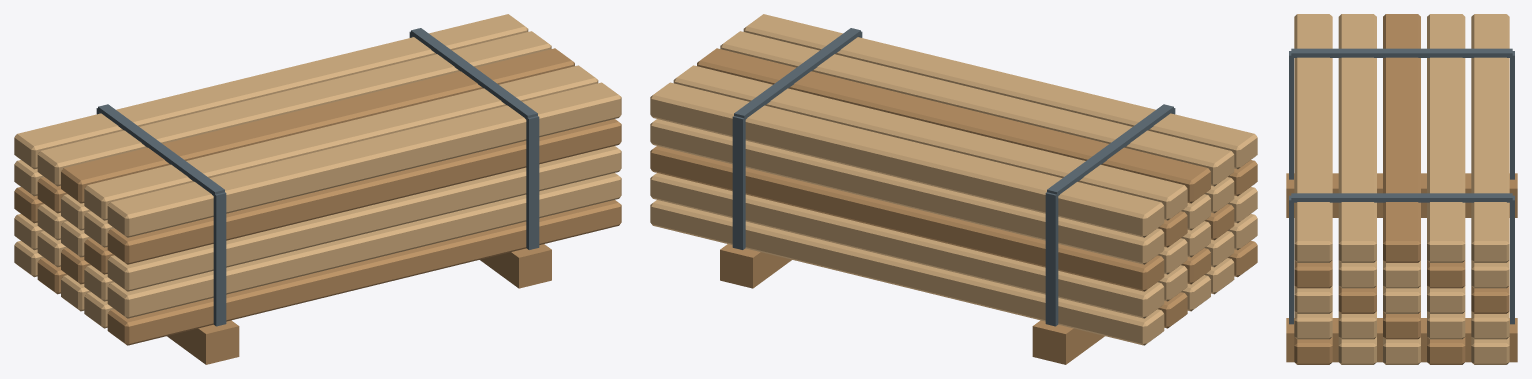
Rendered from Timber_Stack.fbx.
3 views of the same model, side by side, from view 1: azimuth 30°, elevation 25°; view 2: azimuth 150°, elevation 25°; view 3: azimuth 270°, elevation 25° (orthographic). The views are drawn at different scales.
Parts seen in each view (by area): view 1: Stacked Timber Plank.020, Stacked Timber Plank.015, Stacked Timber Plank.010, Stacked Timber Plank.005, Stacked Timber Plank, Stacked Timber Plank.023, Stacked Timber Plank.021, Stacked Timber Plank.022, Stacked Timber Plank.024, Timber Dunnage, Timber Dunnage.001, Timber Bundle Strap Side (+19 smaller); view 2: Stacked Timber Plank.024, Stacked Timber Plank.019, Stacked Timber Plank.014, Stacked Timber Plank.009, Stacked Timber Plank.004, Stacked Timber Plank.021, Stacked Timber Plank.023, Stacked Timber Plank.020, Stacked Timber Plank.022, Timber Dunnage, Timber Dunnage.001, Timber Bundle Strap Side.003 (+19 smaller); view 3: Stacked Timber Plank.020, Stacked Timber Plank.024, Stacked Timber Plank.021, Stacked Timber Plank.023, Stacked Timber Plank.022, Timber Bundle Strap Top, Timber Bundle Strap Top.001, Timber Dunnage.001, Timber Dunnage, Stacked Timber Plank, Stacked Timber Plank.004, Stacked Timber Plank.010 (+21 smaller).
Boxes of the visible parts, box(x1,y1,x2,y2) form: Stacked Timber Plank.020: box(107, 82, 621, 237); Stacked Timber Plank.015: box(107, 119, 621, 264); Stacked Timber Plank.010: box(107, 146, 621, 291); Stacked Timber Plank.005: box(107, 173, 621, 318); Stacked Timber Plank: box(107, 200, 621, 345); Stacked Timber Plank.023: box(37, 31, 551, 186); Stacked Timber Plank.021: box(84, 65, 598, 220); Stacked Timber Plank.022: box(61, 48, 574, 203); Stacked Timber Plank.024: box(14, 14, 528, 169); Timber Dunnage: box(167, 320, 239, 364); Timber Dunnage.001: box(480, 244, 551, 288); Timber Bundle Strap Side: box(213, 192, 226, 326); Stacked Timber Plank.024: box(650, 82, 1164, 237); Stacked Timber Plank.019: box(650, 119, 1164, 264); Stacked Timber Plank.014: box(650, 146, 1164, 291); Stacked Timber Plank.009: box(650, 173, 1164, 318); Stacked Timber Plank.004: box(650, 200, 1164, 345); Stacked Timber Plank.021: box(720, 31, 1234, 186); Stacked Timber Plank.023: box(673, 65, 1187, 220); Stacked Timber Plank.020: box(743, 14, 1257, 169); Stacked Timber Plank.022: box(697, 48, 1210, 203); Timber Dunnage: box(1032, 320, 1104, 364); Timber Dunnage.001: box(720, 244, 791, 288); Timber Bundle Strap Side.003: box(732, 116, 745, 249); Stacked Timber Plank.020: box(1294, 14, 1332, 262); Stacked Timber Plank.024: box(1471, 14, 1509, 262); Stacked Timber Plank.021: box(1338, 14, 1376, 262); Stacked Timber Plank.023: box(1427, 14, 1465, 262); Stacked Timber Plank.022: box(1383, 14, 1420, 262); Timber Bundle Strap Top: box(1291, 48, 1512, 57); Timber Bundle Strap Top.001: box(1291, 193, 1512, 202); Timber Dunnage.001: box(1286, 318, 1517, 362); Timber Dunnage: box(1286, 173, 1517, 217); Stacked Timber Plank: box(1294, 337, 1332, 364); Stacked Timber Plank.004: box(1471, 337, 1509, 364); Stacked Timber Plank.010: box(1294, 286, 1332, 313).
Bounding box in the file's own units: 270 × 87.25 × 115.
